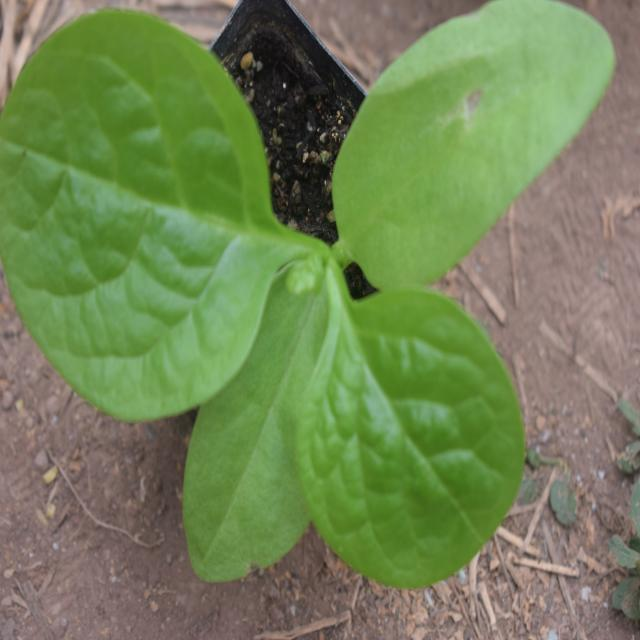Ceylon spinach: (3, 4, 572, 561)
